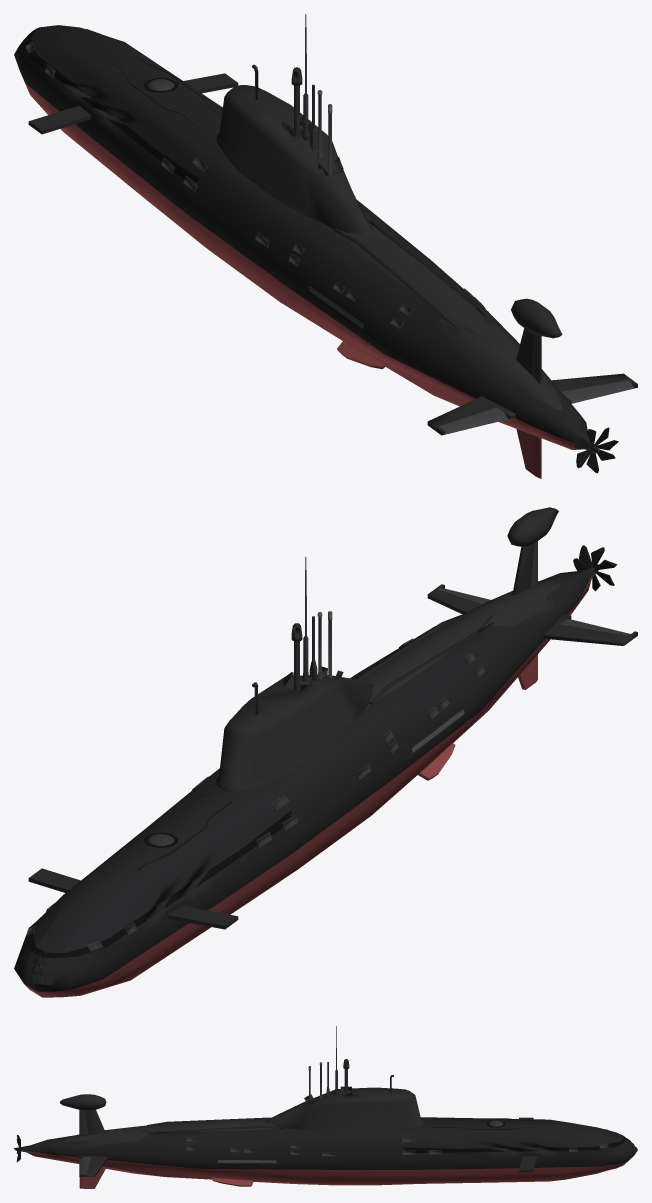
File: akula.glb
3 views of the same model, one above another, from view 1: azimuth 30°, elevation 25°; view 2: azimuth 150°, elevation 25°; view 3: azimuth 270°, elevation 25° (orthographic). The views are drawn at different scales.
Parts seen in each view (by area): view 1: hull, prop; view 2: hull, prop; view 3: hull.
Part boxes in pixels (<box>): hull: <box>14,14,637,478</box>; prop: <box>575,427,618,473</box>; hull: <box>14,507,637,997</box>; prop: <box>573,545,617,591</box>; hull: <box>14,1026,637,1188</box>.
Size of the model in its own units: 1.75 by 2.5 by 8.76.
12 materials, 11 textured.
